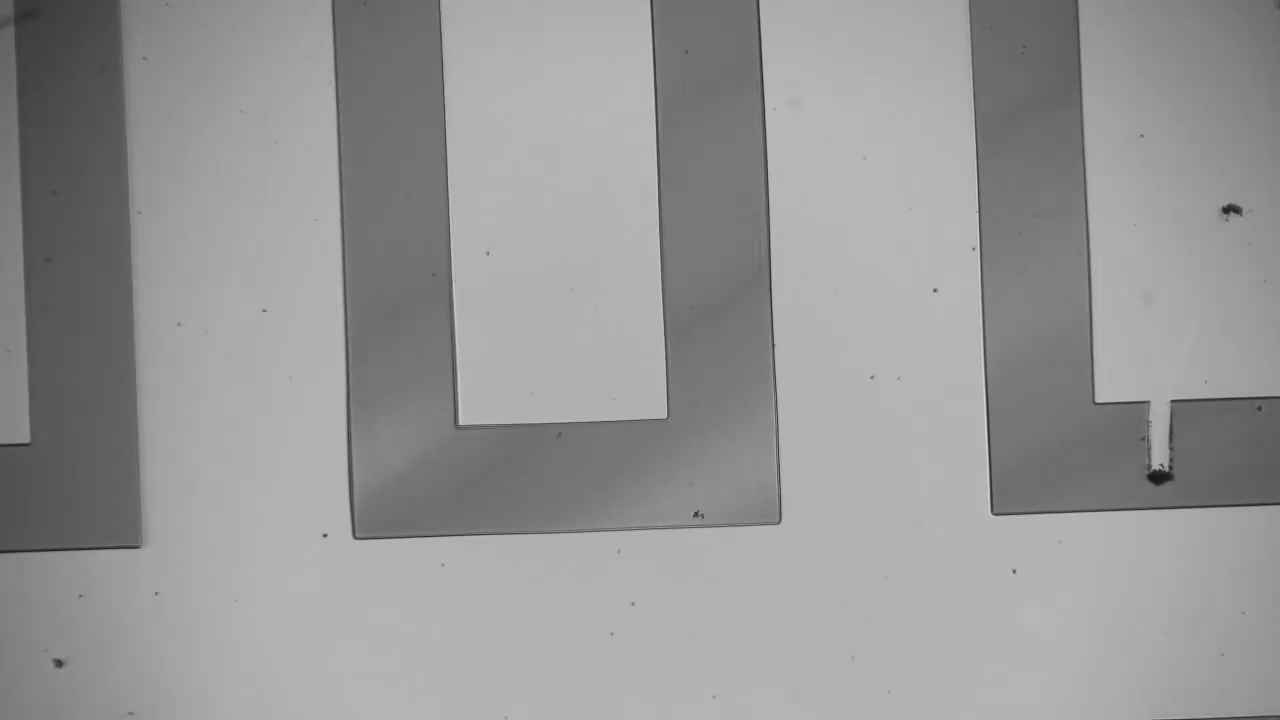Short_circuit: (1127, 377, 1201, 543)
